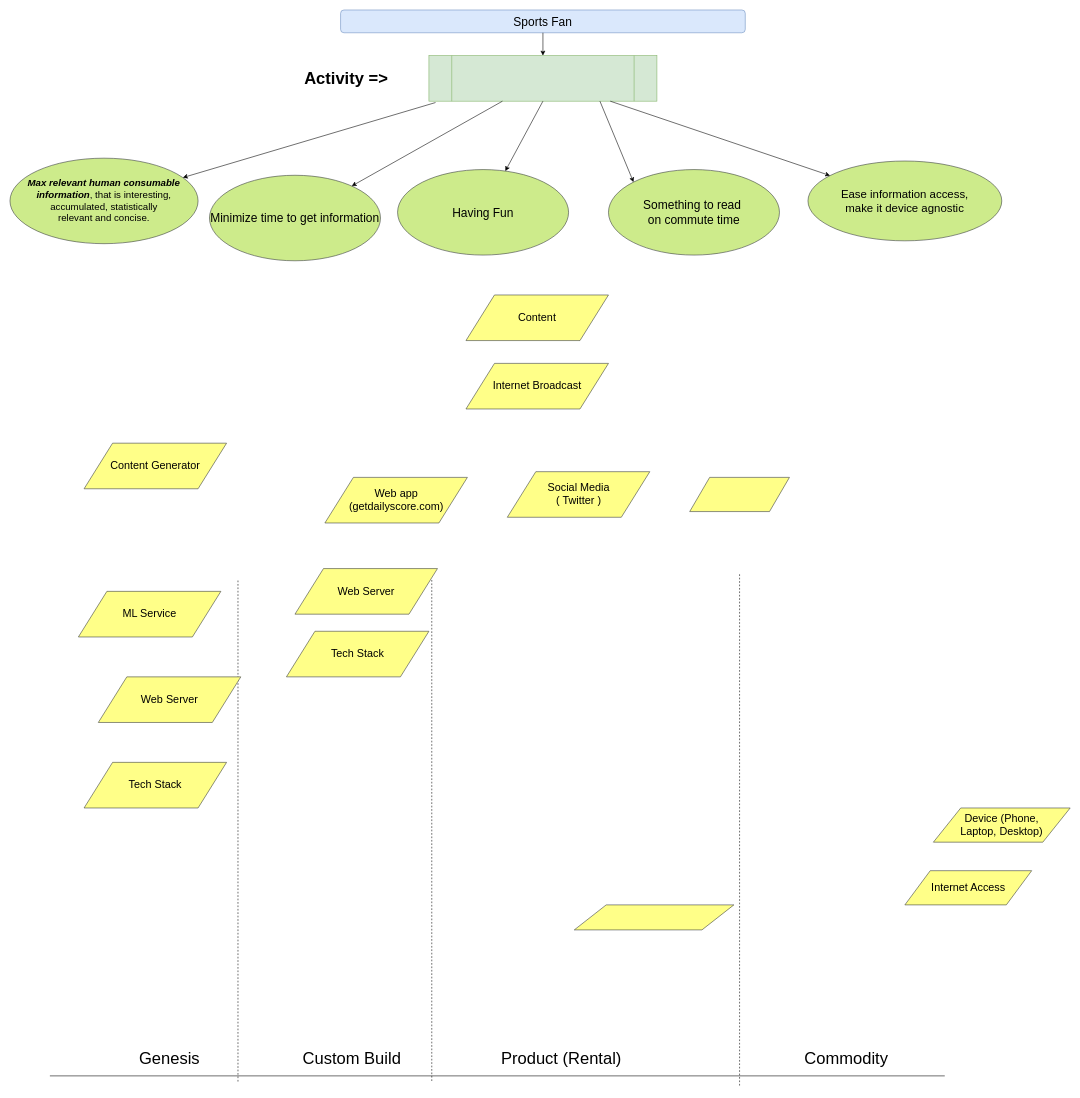
The diagram is 1080 pixels wide and 1098 high, and some of its shapes have lost their labels. The box of each missing label's shape, as (x1, y1, x2, y2) in pixels:
Data api (nba.com): (574, 904, 734, 930)
Email: (689, 477, 789, 512)
Track past games scores and stats: (428, 55, 657, 101)
